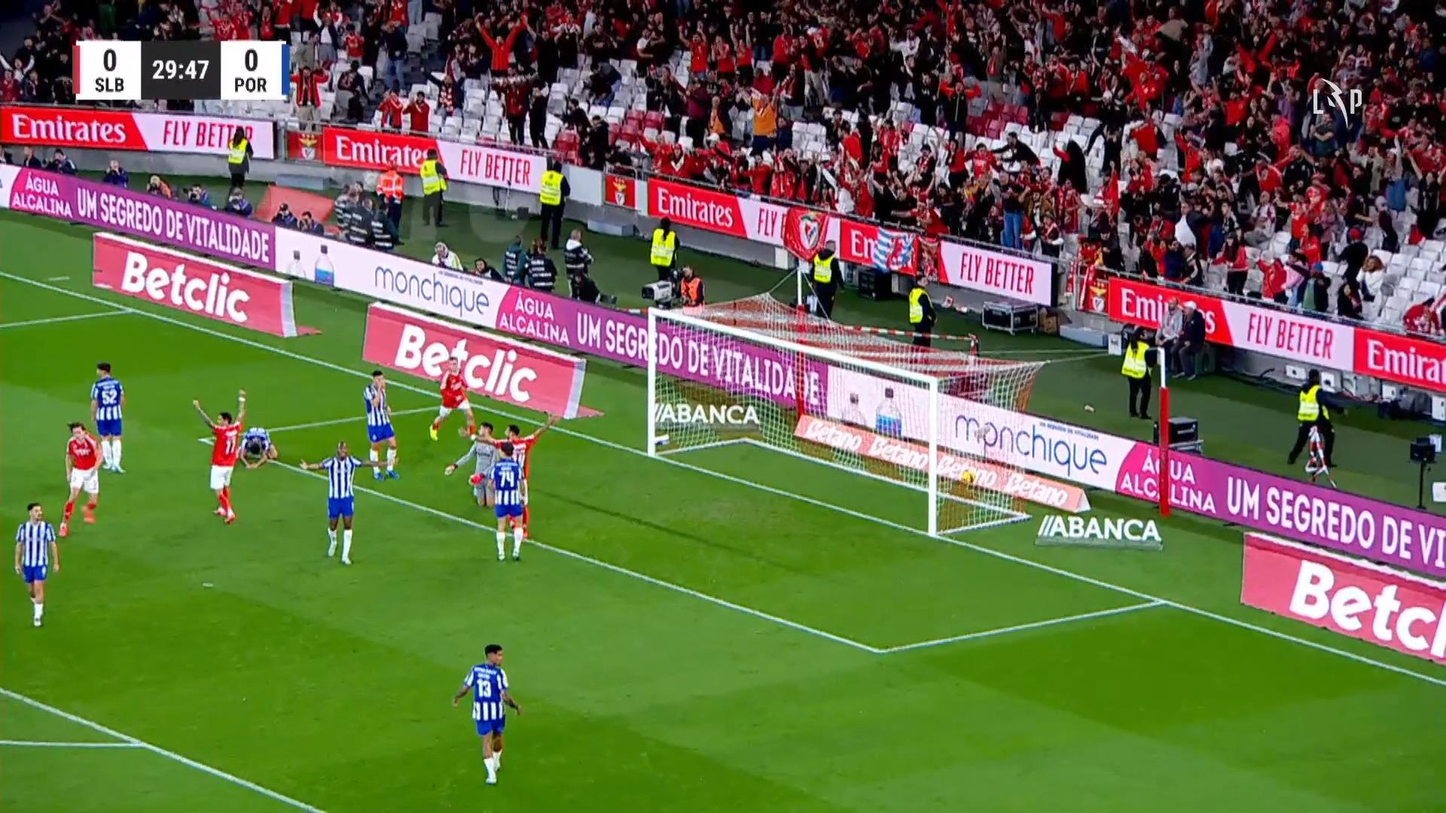ball: (959, 468, 976, 486)
goalkeeper: (444, 422, 501, 507)
player: (446, 412, 557, 538), (297, 440, 386, 565), (450, 643, 522, 784), (495, 414, 557, 539), (191, 387, 247, 524), (13, 501, 60, 627), (57, 421, 105, 537), (485, 440, 528, 561), (362, 369, 400, 481), (428, 355, 477, 441), (89, 361, 126, 473), (239, 426, 277, 468)
